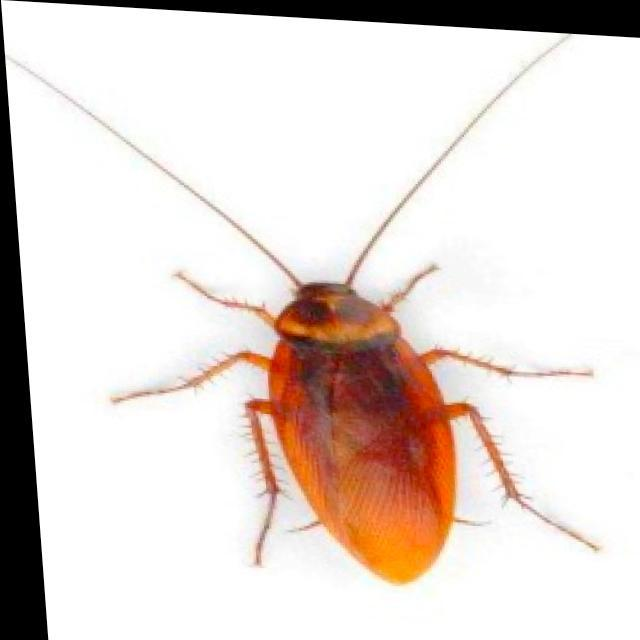cockroach: (196, 188, 513, 600)
